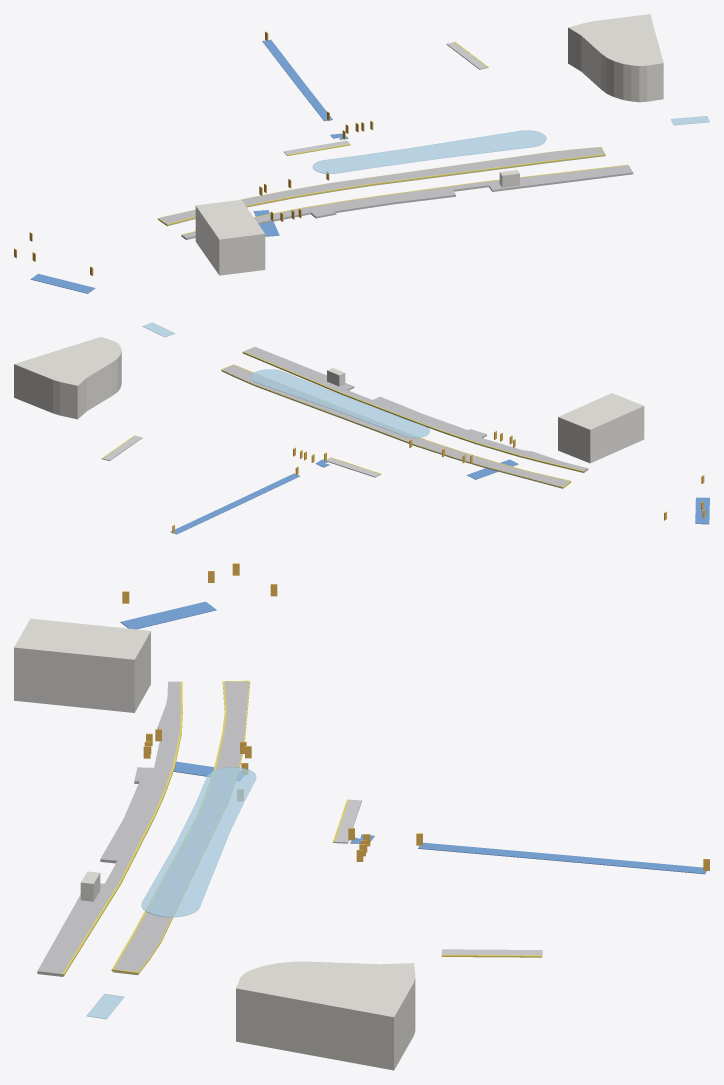
Rendered from 8507069-ittigen-bei-bern.glb.
The picture shows the model from 3 angles, top to bottom: view 1: azimuth 30°, elevation 25°; view 2: azimuth 150°, elevation 25°; view 3: azimuth 270°, elevation 25°; orthographic projection. The views are drawn at different scales.
Visible parts, largest first — view 1: building_part@x, platform_surface@0, roof@0, boarding_edge@0, passage@x, passage@-1, access_point@0, platform_body@0; view 2: building_part@x, platform_surface@0, roof@0, boarding_edge@0, passage@x, passage@-1, platform_body@0, access_point@0; view 3: building_part@x, platform_surface@0, roof@0, boarding_edge@0, passage@x, access_point@0, passage@-1, platform_body@0.
Part boxes in pixels (<box>): building_part@x: <box>195,14,663,275</box>; platform_surface@0: <box>159,147,633,239</box>; roof@0: <box>312,116,709,173</box>; boarding_edge@0: <box>157,41,628,235</box>; passage@x: <box>262,39,348,139</box>; passage@-1: <box>30,210,279,293</box>; access_point@0: <box>14,31,373,275</box>; platform_body@0: <box>283,42,487,155</box>; building_part@x: <box>14,337,644,463</box>; platform_surface@0: <box>222,347,588,488</box>; roof@0: <box>142,322,429,438</box>; boarding_edge@0: <box>101,351,583,487</box>; passage@x: <box>170,459,329,534</box>; passage@-1: <box>467,459,709,524</box>; platform_body@0: <box>103,435,380,477</box>; access_point@0: <box>172,431,705,533</box>; building_part@x: <box>14,618,415,1070</box>; platform_surface@0: <box>37,681,249,976</box>; roof@0: <box>86,767,256,1019</box>; boarding_edge@0: <box>62,680,542,975</box>; passage@x: <box>350,834,706,874</box>; access_point@0: <box>122,563,709,870</box>; passage@-1: <box>120,601,244,780</box>; platform_body@0: <box>334,799,542,955</box>.
Size of the model in its own units: 210 by 15.12 by 124.
